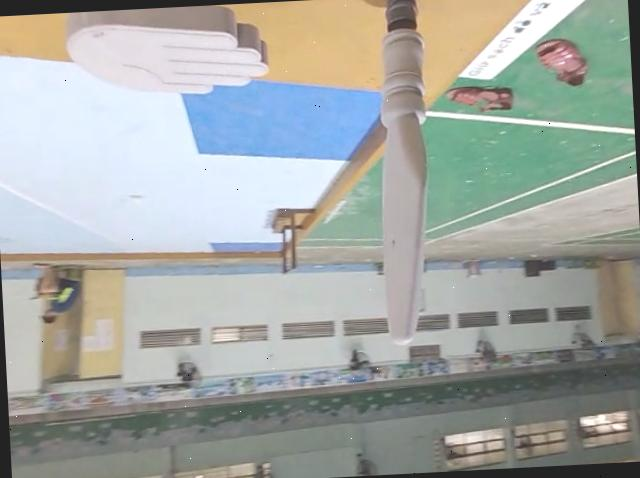Hand: (59, 2, 284, 108)
Sph: (362, 0, 446, 348)
